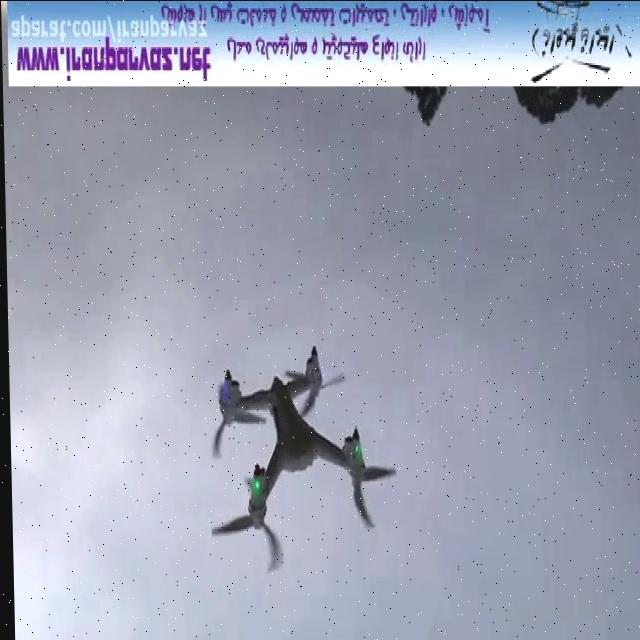drone: (197, 341, 399, 579)
